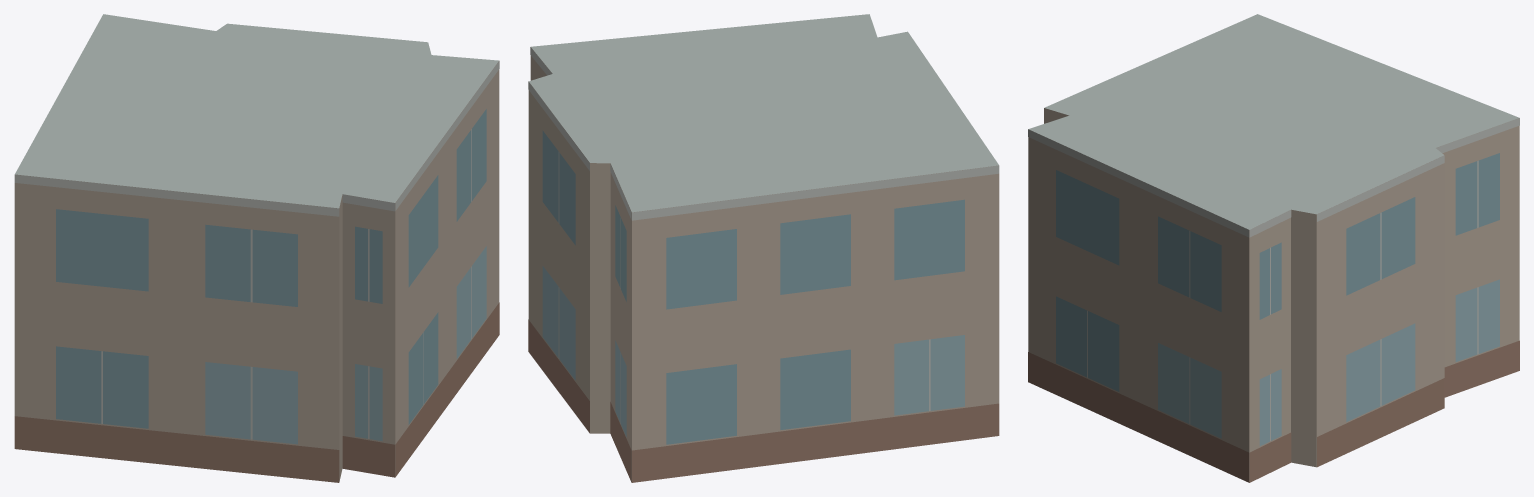
File: survey-upis-32855469.glb
3 renders of one model, left to right at view 1: azimuth 30°, elevation 25°; view 2: azimuth 150°, elevation 25°; view 3: azimuth 270°, elevation 25°, orthographic. The views are drawn at different scales.
Parts seen in each view (by area): view 1: survey-upis-32855469.tmp; view 2: survey-upis-32855469.tmp; view 3: survey-upis-32855469.tmp.
Part boxes in pixels (x1,y1,x2,y2): survey-upis-32855469.tmp: (14, 14, 499, 482); survey-upis-32855469.tmp: (528, 14, 999, 482); survey-upis-32855469.tmp: (1028, 14, 1519, 482).
Bounding box in the file's own units: 14.56 × 7.95 × 14.01.
